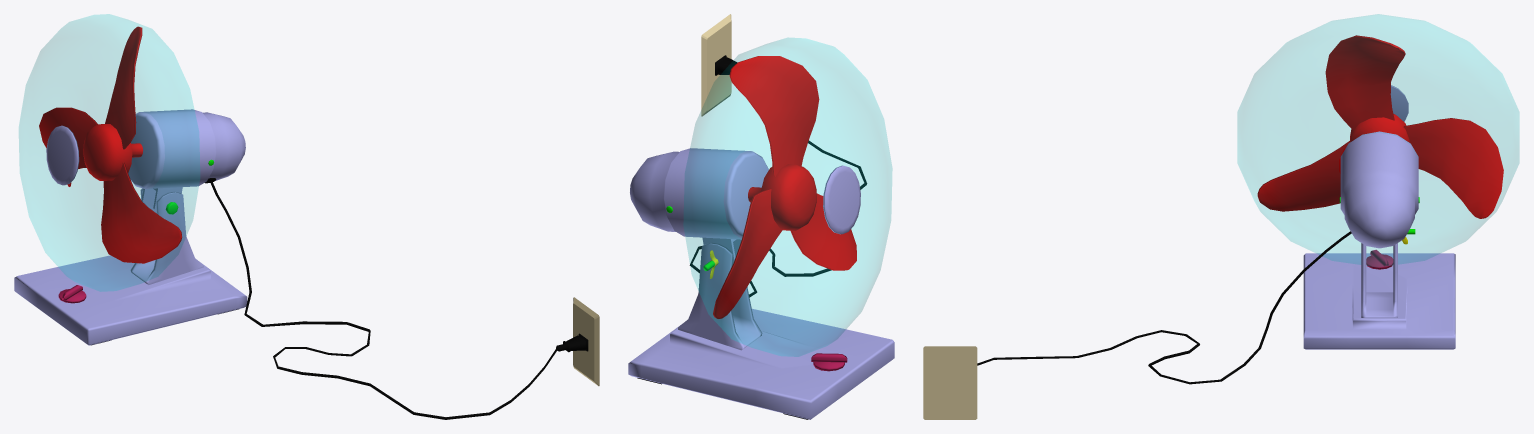
The model's file is ventilador4.fbx.
3 renders of one model, left to right at view 1: azimuth 30°, elevation 25°; view 2: azimuth 150°, elevation 25°; view 3: azimuth 270°, elevation 25°, orthographic. The views are drawn at different scales.
Parts seen in each view (by area): view 1: polySurface40, polySurface30, polySurface20, polySurface27, polySurface39, polySurface26, polySurface36, polySurface33; view 2: polySurface40, polySurface30, polySurface20, polySurface27, polySurface39, polySurface36, polySurface33, polySurface26, polySurface42, polySurface23, polySurface32, polySurface22; view 3: polySurface40, polySurface20, polySurface30, polySurface27, polySurface36, polySurface26, polySurface39.
Part boxes in pixels (bbox=[...]): polySurface40: bbox=[19, 14, 199, 291]; polySurface30: bbox=[14, 255, 247, 345]; polySurface20: bbox=[39, 26, 182, 263]; polySurface27: bbox=[128, 109, 245, 188]; polySurface39: bbox=[130, 188, 203, 284]; polySurface26: bbox=[210, 181, 557, 419]; polySurface36: bbox=[573, 297, 599, 386]; polySurface33: bbox=[46, 125, 79, 185]; polySurface40: bbox=[683, 38, 892, 356]; polySurface30: bbox=[628, 308, 894, 419]; polySurface20: bbox=[713, 56, 856, 318]; polySurface27: bbox=[630, 148, 768, 239]; polySurface39: bbox=[678, 242, 762, 350]; polySurface36: bbox=[701, 14, 731, 116]; polySurface33: bbox=[823, 165, 860, 234]; polySurface26: bbox=[689, 140, 867, 297]; polySurface42: bbox=[702, 237, 741, 264]; polySurface23: bbox=[811, 353, 847, 362]; polySurface32: bbox=[715, 55, 737, 75]; polySurface22: bbox=[813, 361, 844, 371]; polySurface40: bbox=[1237, 14, 1519, 266]; polySurface20: bbox=[1257, 35, 1503, 218]; polySurface30: bbox=[1303, 253, 1455, 349]; polySurface27: bbox=[1340, 131, 1418, 248]; polySurface36: bbox=[923, 346, 977, 419]; polySurface26: bbox=[977, 231, 1351, 384]; polySurface39: bbox=[1361, 243, 1397, 317].
Bounding box in the file's own units: 13.04 × 10.72 × 19.91.
